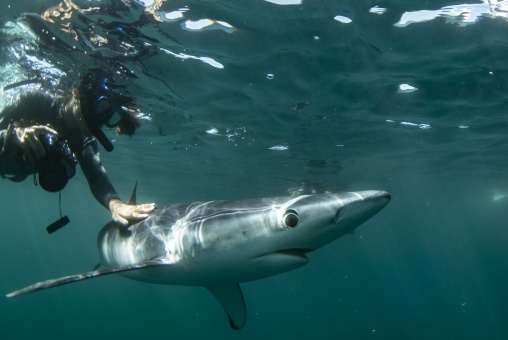Azul: (1, 177, 401, 335)
